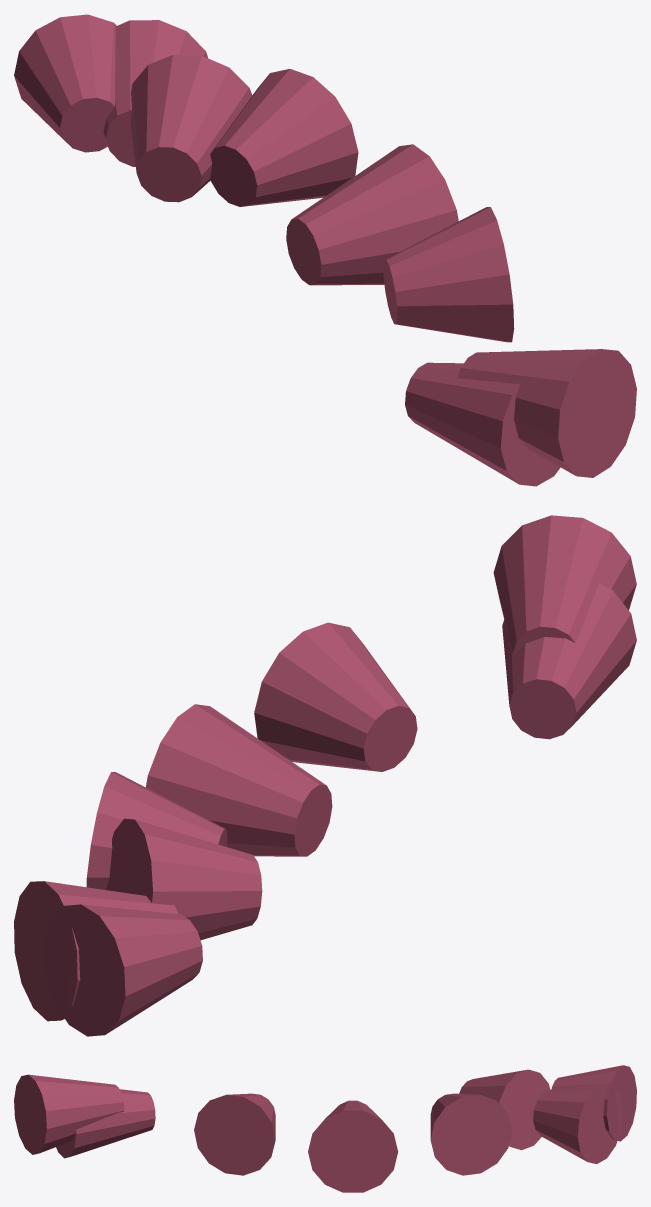
File: medulla_pyramids.glb
3 renders of one model, top to bottom at view 1: azimuth 30°, elevation 25°; view 2: azimuth 150°, elevation 25°; view 3: azimuth 270°, elevation 25°, orthographic. The views are drawn at different scales.
Parts seen in each view (by area): view 1: geometry_0; view 2: geometry_0; view 3: geometry_0.
Part boxes in pixels (box(x1,y1,x2,y2)): geometry_0: box(14, 14, 636, 486); geometry_0: box(14, 515, 636, 1036); geometry_0: box(14, 1065, 636, 1192).
Size of the model in its own units: 12.94 by 9.3 by 57.93.
